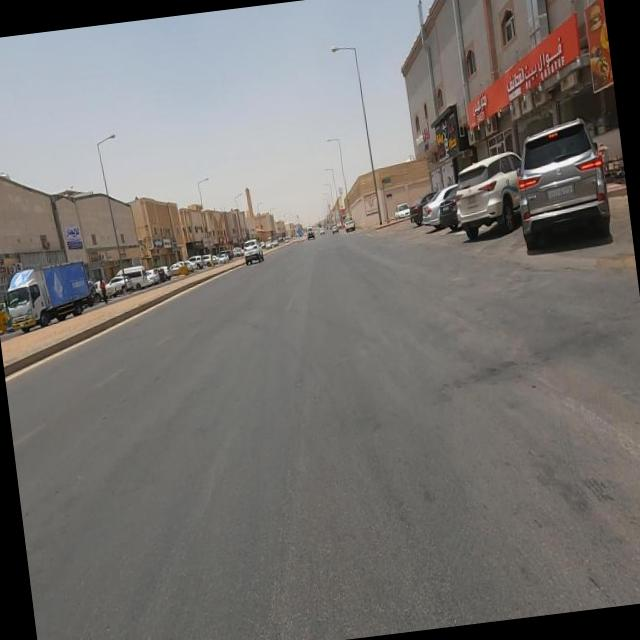debris: (0, 222, 95, 292)
